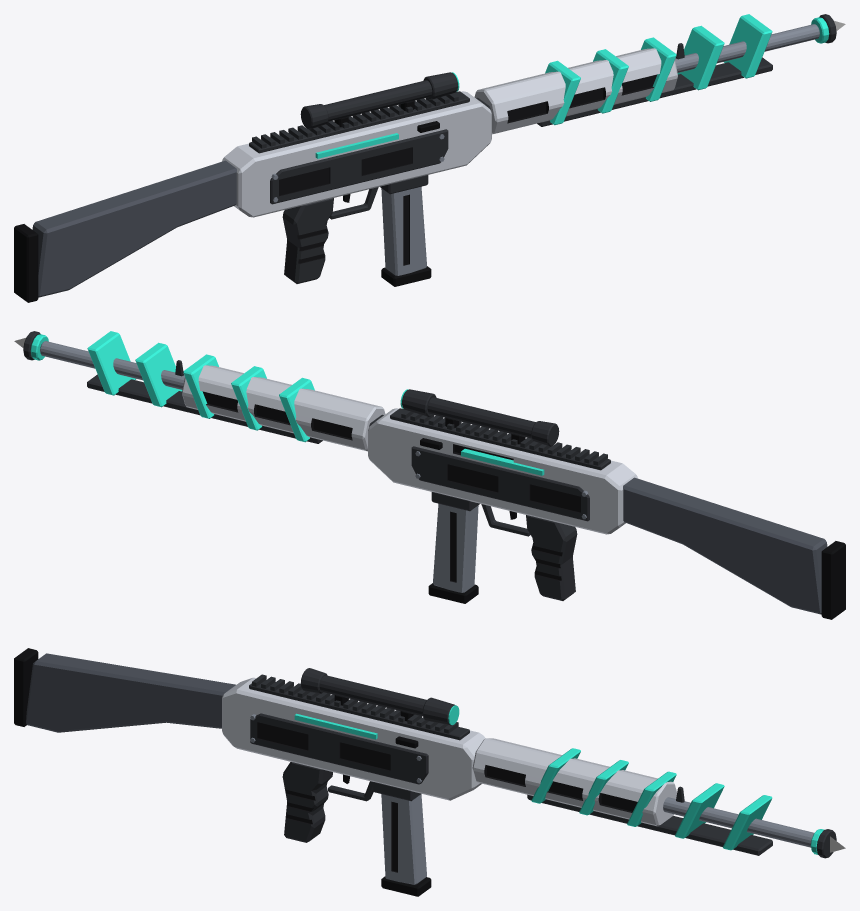
The model's file is gauss_gun42.obj.
The picture shows the model from 3 angles, top to bottom: view 1: azimuth 30°, elevation 25°; view 2: azimuth 150°, elevation 25°; view 3: azimuth 330°, elevation 25°; orthographic projection.
Visible parts, largest first — view 1: body, barrel, mag; view 2: body, barrel, mag; view 3: body, barrel, mag.
Part boxes in pixels (left/top/right/bottom): body: left=14, top=14, right=772, bottom=302; barrel: left=474, top=14, right=836, bottom=134; mag: left=381, top=186, right=431, bottom=286; body: left=87, top=331, right=845, bottom=619; barrel: left=23, top=331, right=385, bottom=451; mag: left=428, top=503, right=478, bottom=603; body: left=14, top=648, right=772, bottom=855; barrel: left=472, top=738, right=836, bottom=858; mag: left=381, top=794, right=431, bottom=896.
Size of the model in its own units: 0.9922 by 0.2244 by 0.052.
